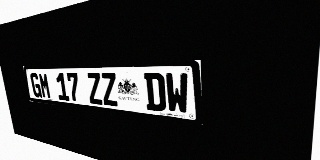1: (55, 73, 69, 101)
7: (66, 73, 81, 102)
D: (144, 73, 166, 112)
G: (29, 73, 42, 98)
M: (38, 73, 51, 99)
W: (165, 73, 189, 115)
Z: (100, 73, 119, 107), (86, 73, 103, 105)
